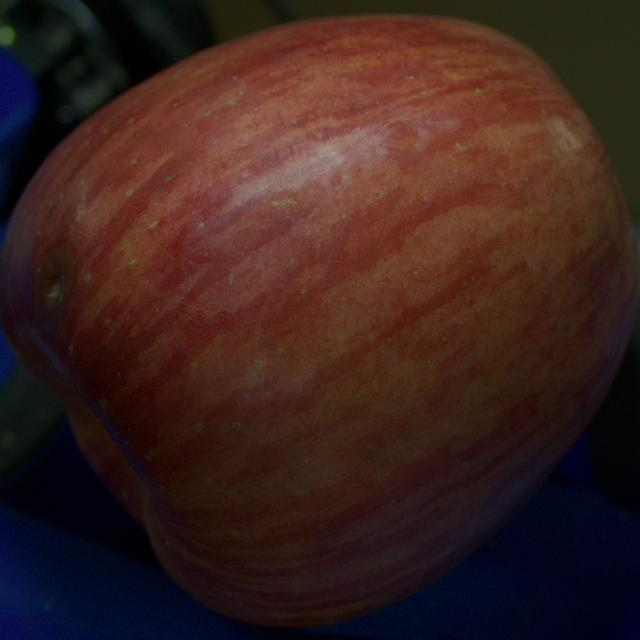apple: (0, 16, 639, 626)
rotten: (34, 244, 75, 326)
